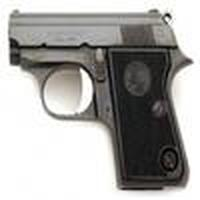gun: (7, 4, 199, 200)
